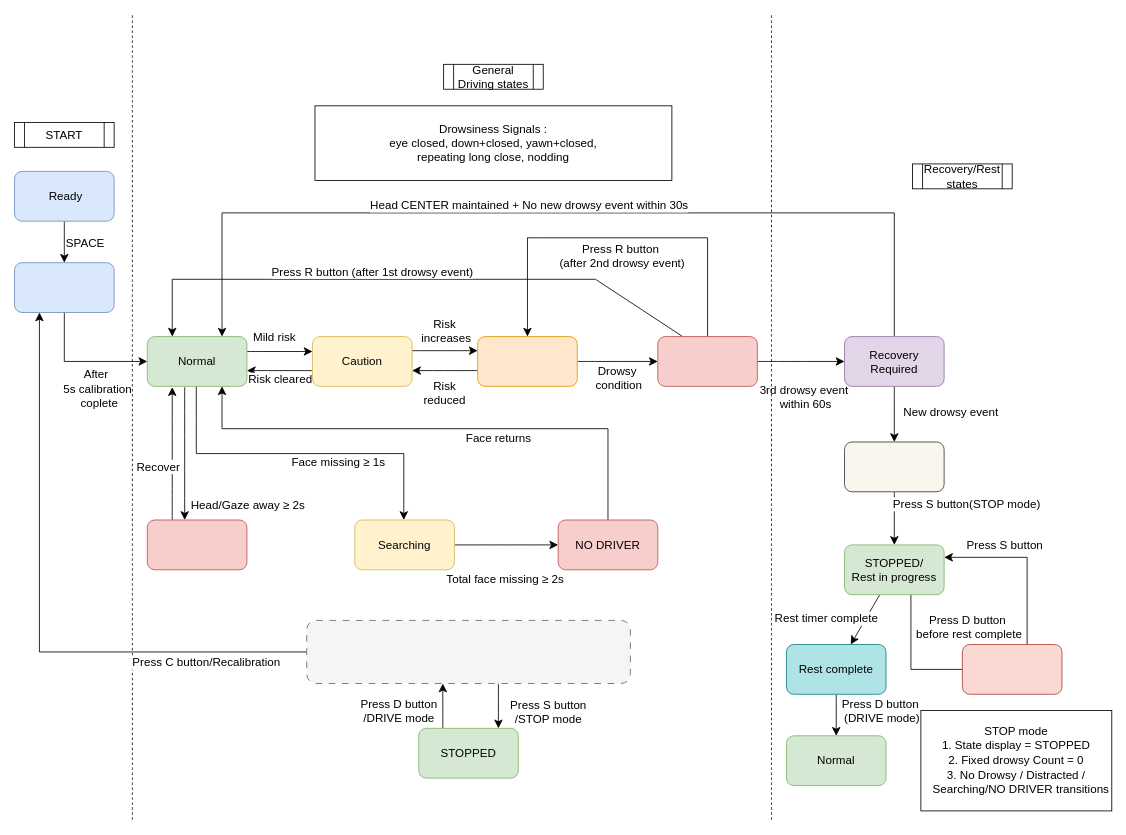
Some shapes in this 1126 by 835 pixel diagram are drawn without their labels. Each missing label, with the centre of its shape:
"Calibration" belongs at point 64,287.
"Distracted" belongs at point 196,544.
"Drowsy" belongs at point 707,361.
"General Monitoring states (normal/caution/warning/General Drowsy/STOP mode)" belongs at point 468,652.
"Not enough rest" belongs at point 1012,669.
"Rest REQUIRED/ TAKE A REST" belongs at point 894,466.
"Warning" belongs at point 527,361.
